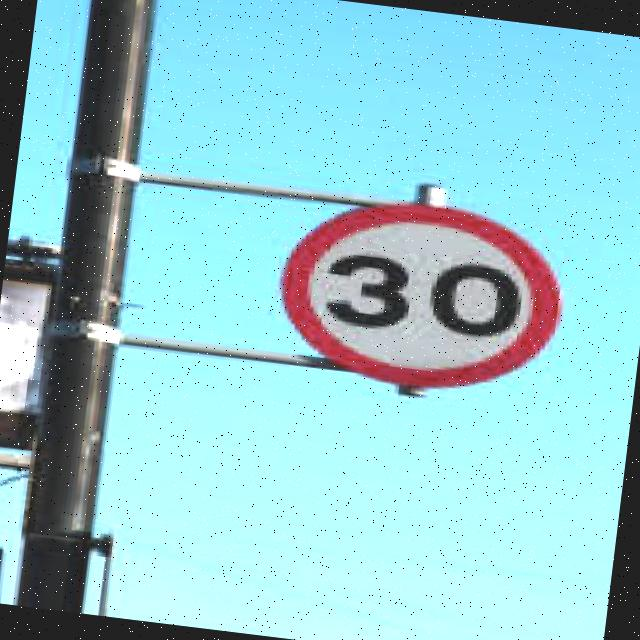Ograniczenie predkosci do 30: (268, 183, 582, 414)
